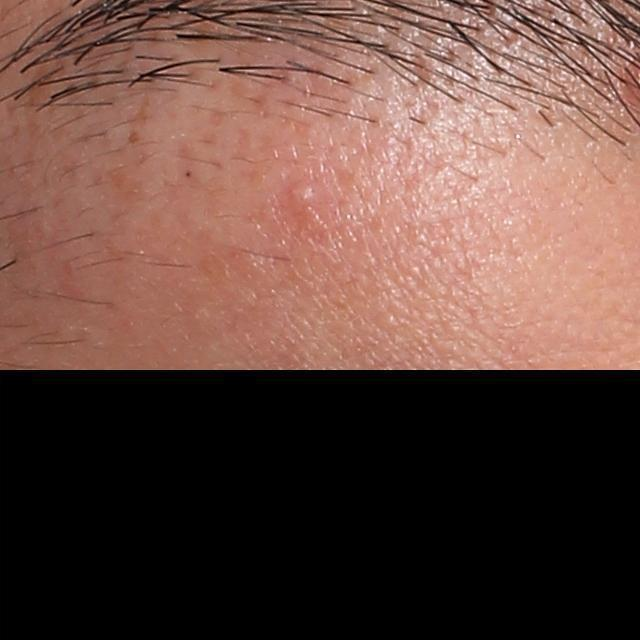papule: (285, 177, 330, 221)
